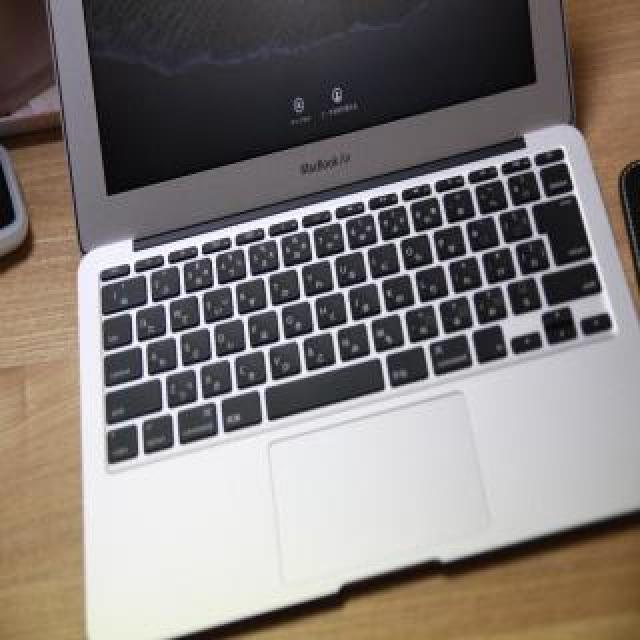laptop_computer: (31, 0, 640, 640)
